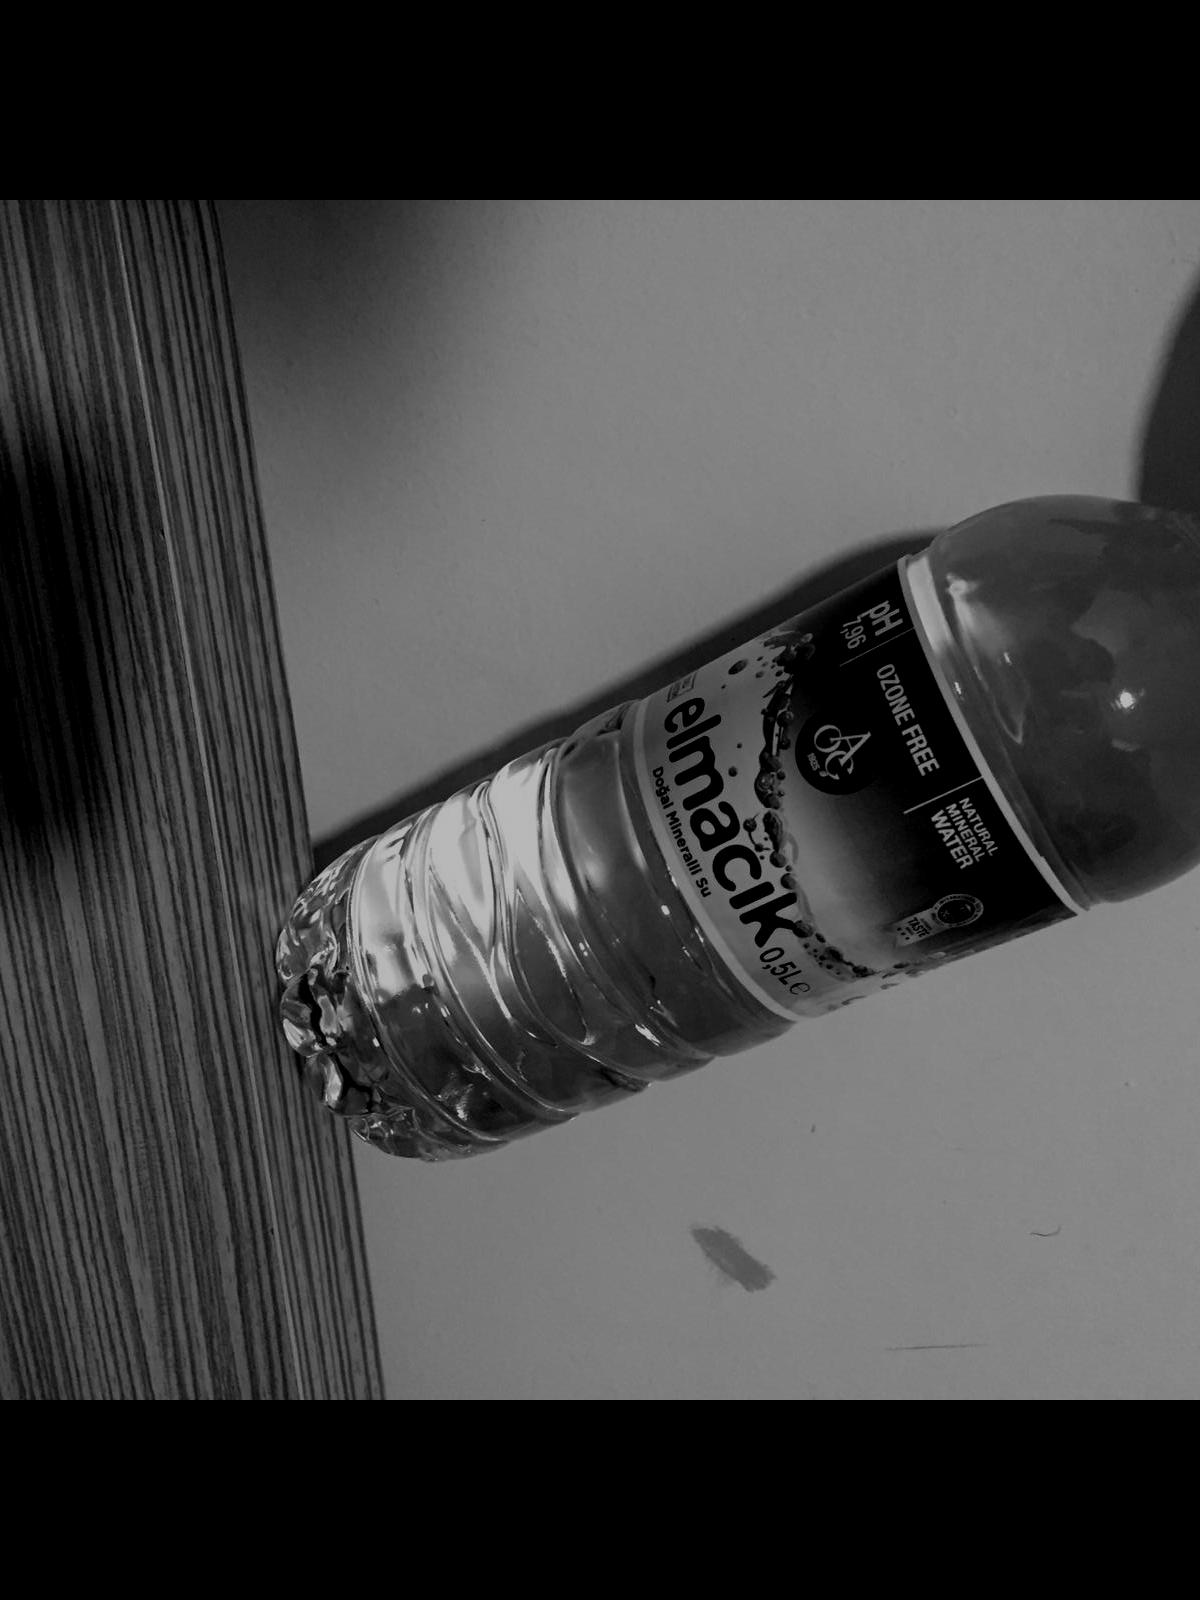bottle: (276, 447, 1200, 1164)
